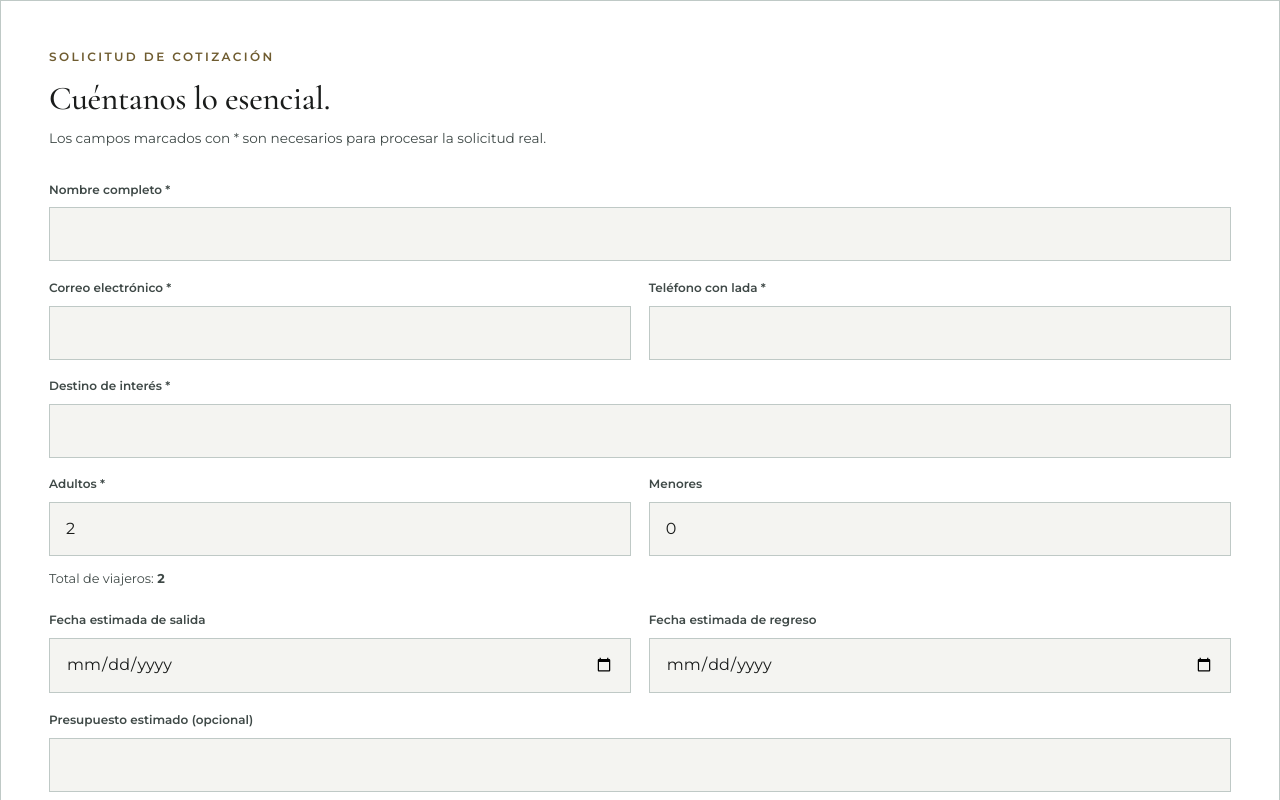
it: QuoteForm › mantiene el total de viajeros sincronizado con adultos y menores
Expected: the text "Total de viajeros: 2" is shown, [49, 572, 165, 586]
Replace the text in the number field labelled "Adultos *" with "3" at (340, 529), box [49, 502, 631, 556]
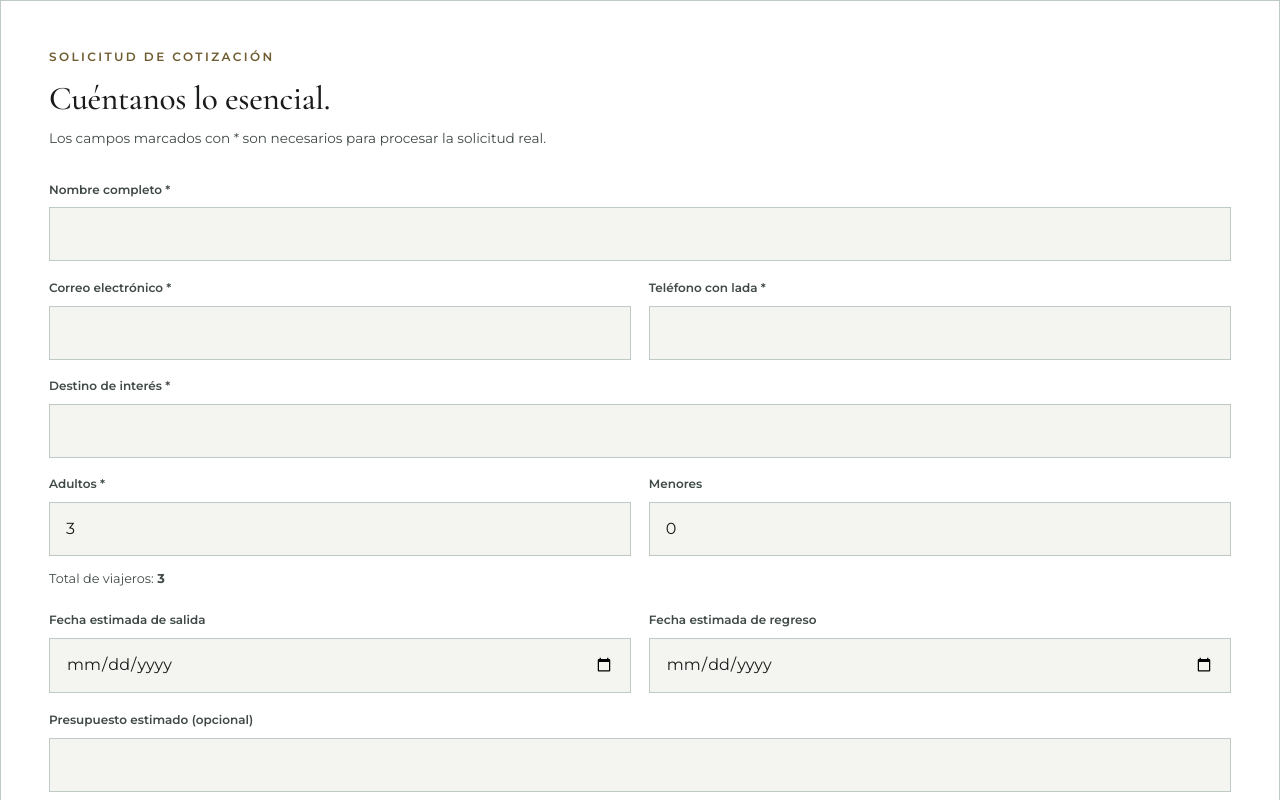
Replace the text in the number field labelled "Menores" with "2" at (940, 529), box [649, 502, 1231, 556]
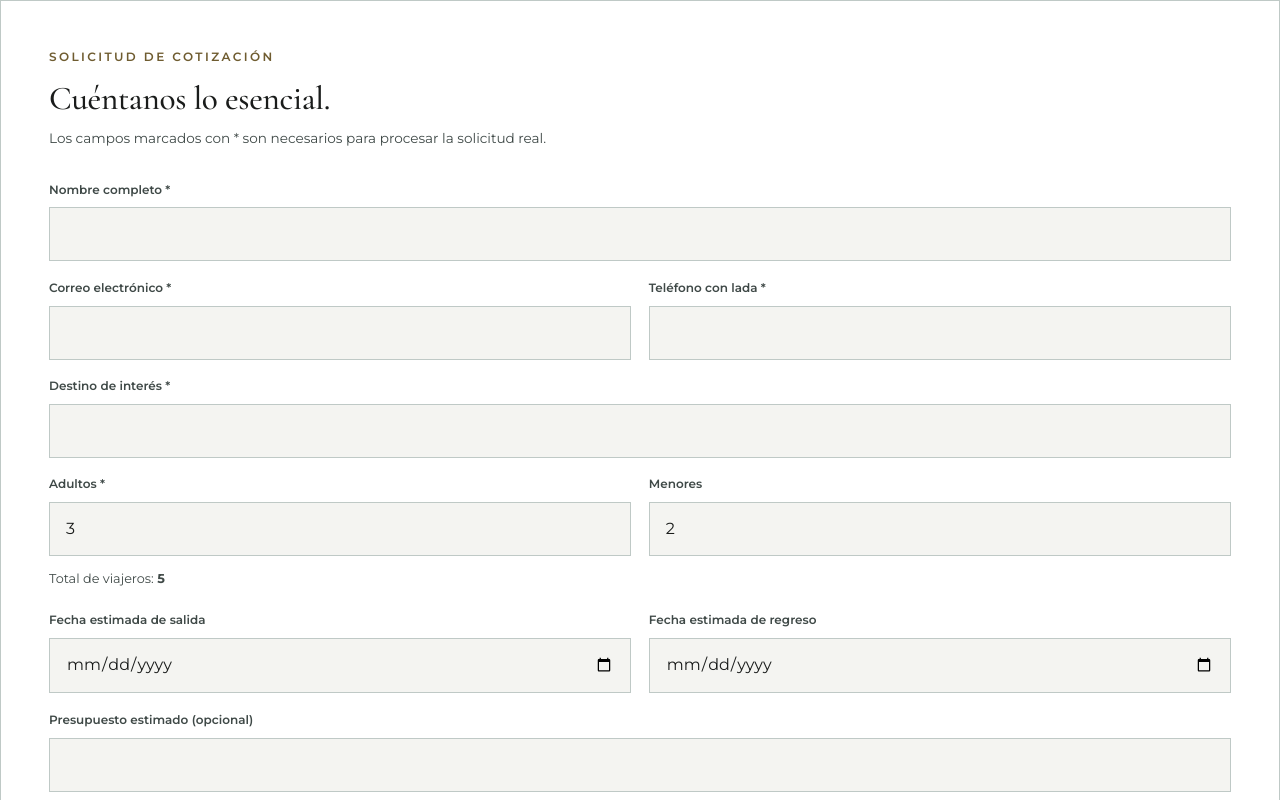
Now the text "Total de viajeros: 5" is shown, box [49, 572, 165, 586]
